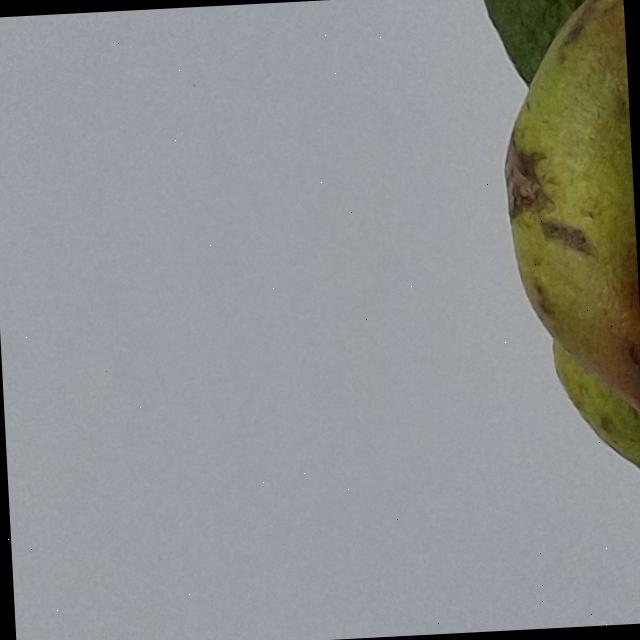mangosteen: (378, 0, 640, 635)
